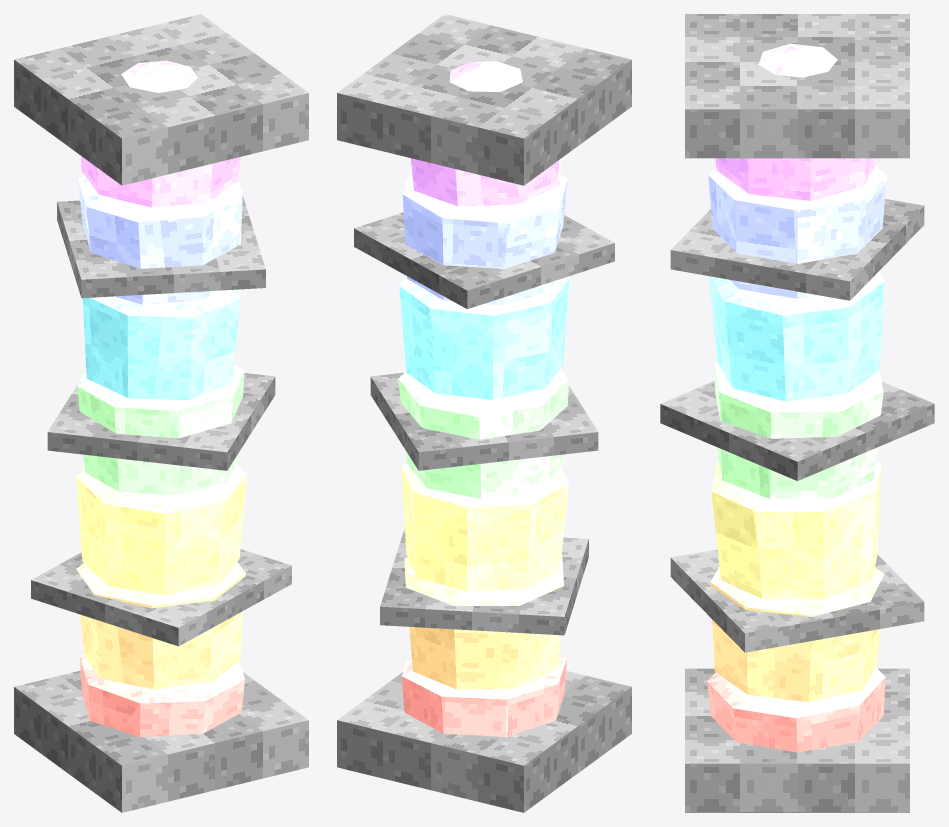
Rendered from architecture-crystal-beam-2m.glb.
The picture shows the model from 3 angles, left to right: view 1: azimuth 30°, elevation 25°; view 2: azimuth 150°, elevation 25°; view 3: azimuth 270°, elevation 25°; orthographic projection. The views are drawn at different scales.
Visible parts, largest first — view 1: top-collar, base-collar, segment-2, segment-4, segment-5, segment-1, segment-3, brace-1, brace-2, brace-3, segment-0, segment-6; view 2: top-collar, base-collar, segment-4, segment-2, segment-3, segment-5, segment-1, brace-3, brace-2, brace-1, segment-0, segment-6; view 3: top-collar, base-collar, segment-4, segment-2, segment-5, segment-1, segment-3, brace-2, brace-3, brace-1, segment-0, segment-6.
Part boxes in pixels (x1,y1,x2,y2): top-collar: [14, 14, 308, 185]; base-collar: [14, 670, 308, 812]; segment-2: [76, 464, 247, 595]; segment-4: [82, 289, 240, 400]; segment-5: [77, 175, 242, 304]; segment-1: [76, 562, 245, 689]; segment-3: [77, 364, 244, 495]; brace-1: [31, 549, 291, 646]; brace-2: [47, 373, 275, 470]; brace-3: [57, 197, 265, 298]; segment-0: [80, 654, 244, 737]; segment-6: [81, 60, 240, 207]; top-collar: [337, 14, 631, 185]; base-collar: [337, 671, 631, 812]; segment-4: [399, 276, 569, 399]; segment-2: [401, 463, 568, 591]; segment-3: [398, 369, 569, 498]; segment-5: [402, 166, 567, 305]; segment-1: [404, 556, 563, 689]; brace-3: [354, 212, 614, 309]; brace-2: [370, 372, 598, 470]; brace-1: [380, 528, 588, 635]; segment-0: [401, 650, 566, 737]; segment-6: [410, 61, 560, 206]; top-collar: [685, 14, 909, 158]; base-collar: [685, 668, 909, 812]; segment-4: [709, 271, 884, 401]; segment-2: [711, 461, 881, 599]; segment-5: [708, 165, 886, 298]; segment-1: [710, 566, 884, 702]; segment-3: [714, 361, 883, 499]; brace-2: [660, 381, 934, 480]; brace-3: [670, 199, 924, 300]; brace-1: [670, 549, 924, 652]; segment-0: [707, 667, 885, 752]; segment-6: [715, 43, 878, 200].
Bounding box in the file's own units: 0.7071 × 2.05 × 0.7071.
8 materials, 8 textured.
